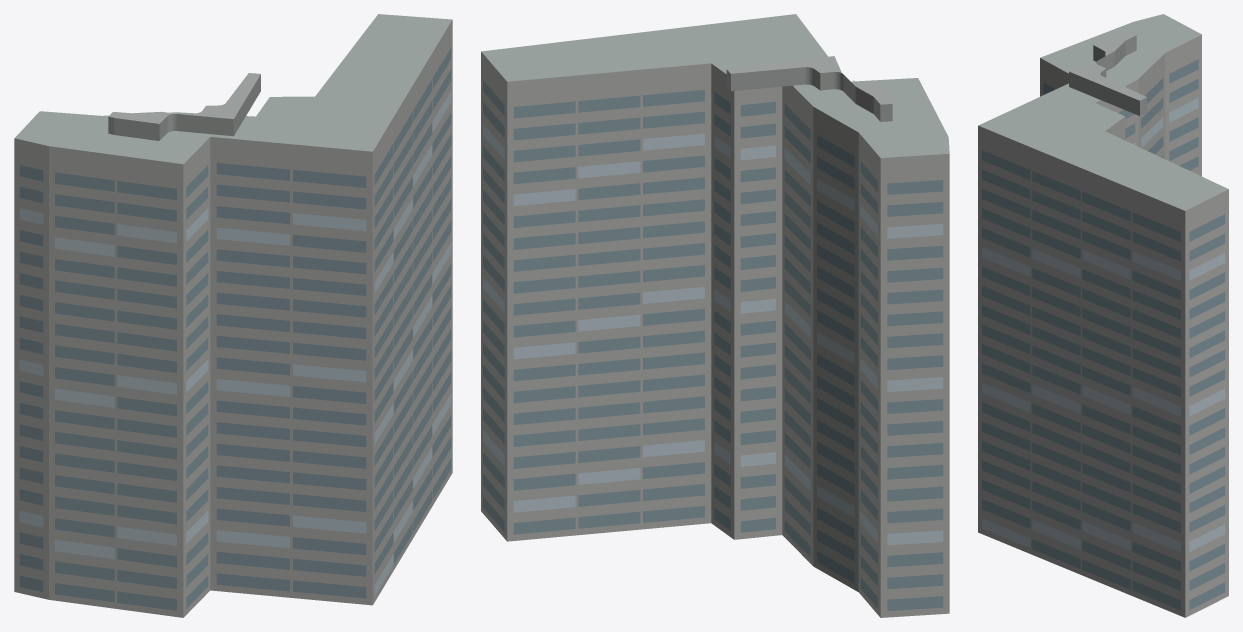
Rendered from fallback-godeok-gracium-143.glb.
3 renders of one model, left to right at view 1: azimuth 30°, elevation 25°; view 2: azimuth 150°, elevation 25°; view 3: azimuth 270°, elevation 25°, orthographic. The views are drawn at different scales.
Parts seen in each view (by area): view 1: fallback-godeok-gracium-143; view 2: fallback-godeok-gracium-143; view 3: fallback-godeok-gracium-143.
Part boxes in pixels (box(x1,y1,x2,y2)): fallback-godeok-gracium-143: box(14, 14, 452, 617); fallback-godeok-gracium-143: box(481, 14, 949, 617); fallback-godeok-gracium-143: box(978, 14, 1228, 617).
Size of the model in its own units: 66.04 by 66 by 35.51.
